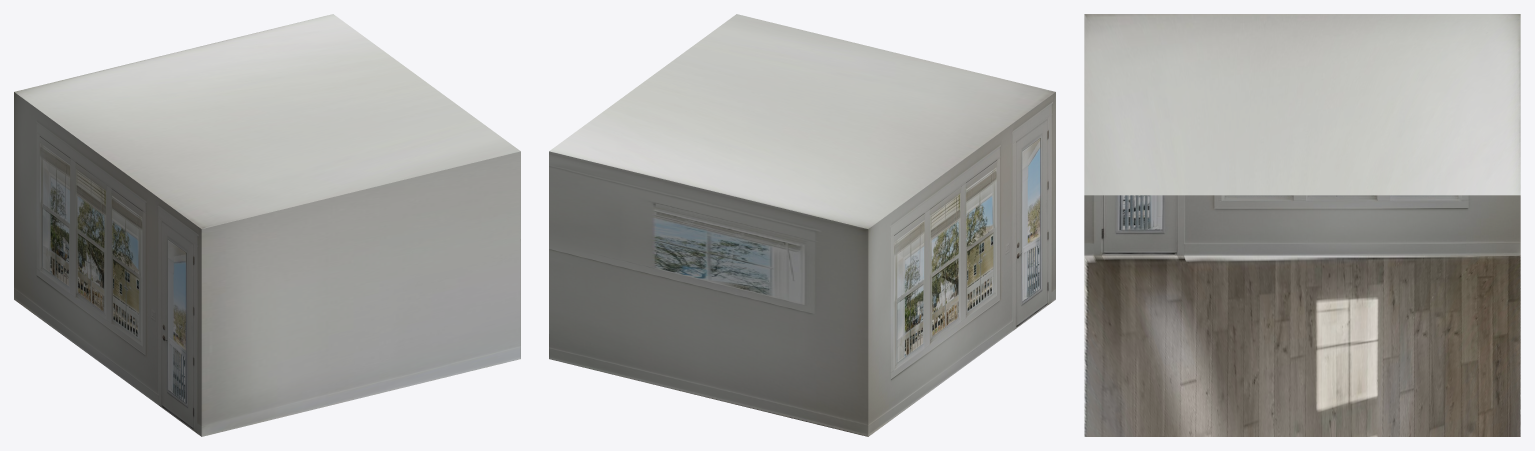
Rendered from room_test.glb.
The picture shows the model from 3 angles, left to right: view 1: azimuth 30°, elevation 25°; view 2: azimuth 150°, elevation 25°; view 3: azimuth 270°, elevation 25°; orthographic projection. The views are drawn at different scales.
Visible parts, largest first — view 1: wall_left, roof, wall_bottom; view 2: wall_right, roof, wall_bottom; view 3: floor, roof, wall_bottom.
Boxes of the visible parts, <box> form: wall_left: <box>201,151,520,436</box>; roof: <box>14,14,520,228</box>; wall_bottom: <box>14,92,201,436</box>; wall_right: <box>549,151,868,436</box>; roof: <box>549,14,1055,228</box>; wall_bottom: <box>868,92,1055,436</box>; floor: <box>1084,255,1520,436</box>; roof: <box>1084,14,1520,195</box>; wall_bottom: <box>1084,195,1520,255</box>.
Bounding box in the file's own units: 4.5 × 2.8 × 4.58.
1 material, 1 textured.
